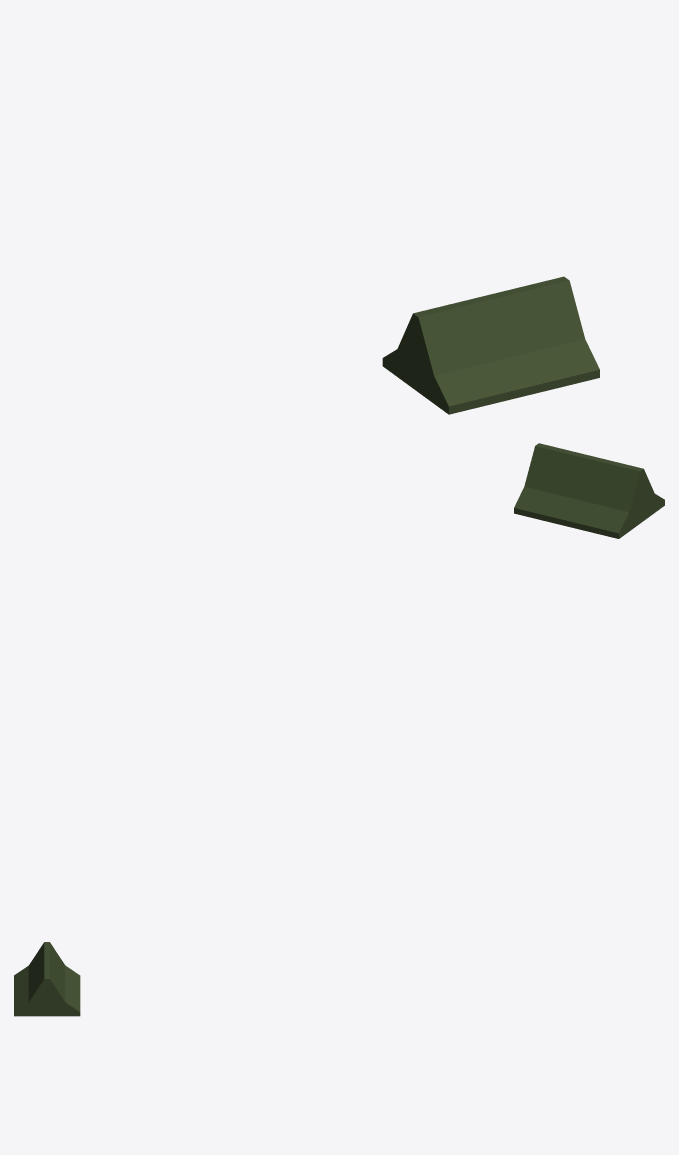
The picture shows the model from 3 angles, top to bottom: view 1: azimuth 30°, elevation 25°; view 2: azimuth 150°, elevation 25°; view 3: azimuth 270°, elevation 25°; orthographic projection. The views are drawn at different scales.
Parts seen in each view (by area): view 1: Object206_roof1_0; view 2: Object206_roof1_0; view 3: Object206_roof1_0.
Boxes of the visible parts, x1,y1,x2,y2 form: Object206_roof1_0: (382,276,599,414); Object206_roof1_0: (514,443,664,538); Object206_roof1_0: (14,942,80,1016).
Bounding box in the file's own units: 1093 × 946 × 4297.
